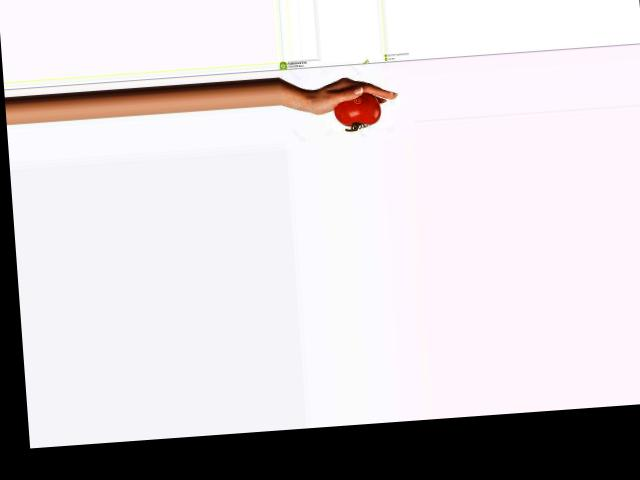tomato: (333, 91, 381, 127)
